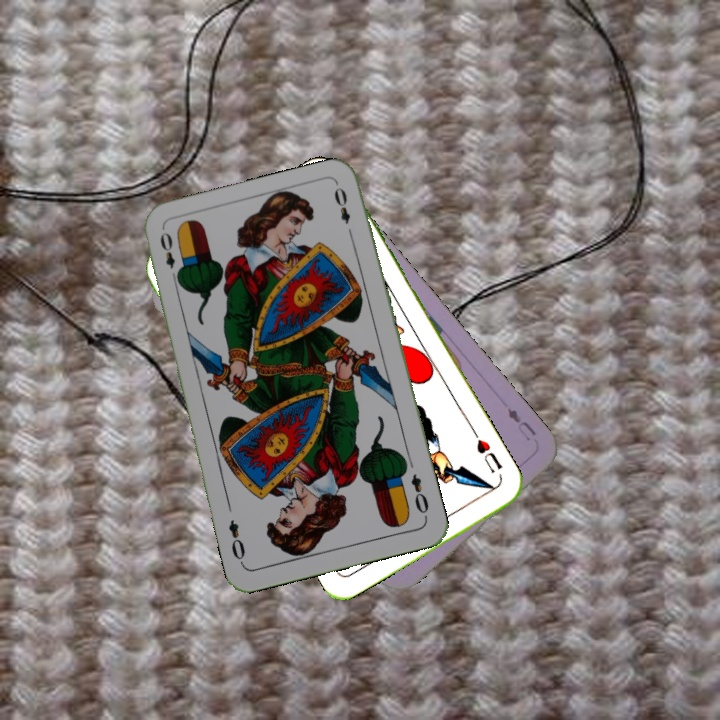EO: (156, 228, 183, 285), (407, 470, 431, 521)
EU: (503, 404, 539, 444)
HU: (472, 435, 505, 476)
